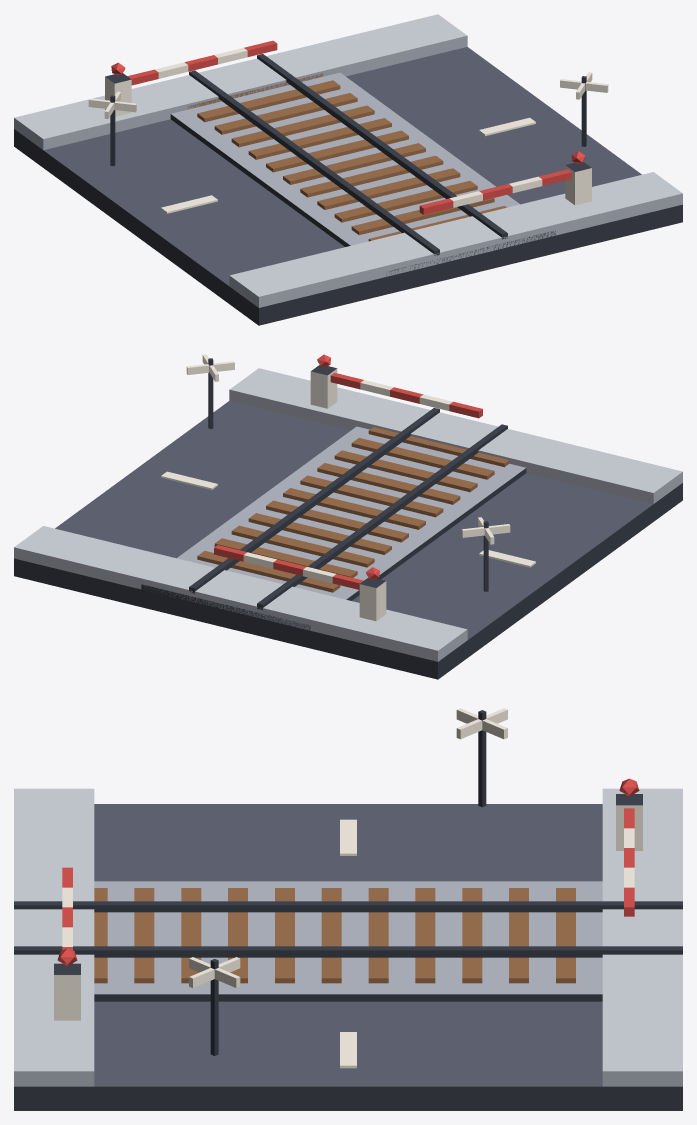
File: rail_crossing.glb
3 views of the same model, one above another, from view 1: azimuth 30°, elevation 25°; view 2: azimuth 150°, elevation 25°; view 3: azimuth 270°, elevation 25° (orthographic). The views are drawn at different scales.
Visible parts, largest first — view 1: rail_crossing; view 2: rail_crossing; view 3: rail_crossing.
Boxes of the visible parts, x1,y1,x2,y2 form: rail_crossing: (14, 14, 682, 325); rail_crossing: (14, 354, 682, 679); rail_crossing: (14, 708, 682, 1110).
Bounding box in the file's own units: 1 × 0.22 × 1.
